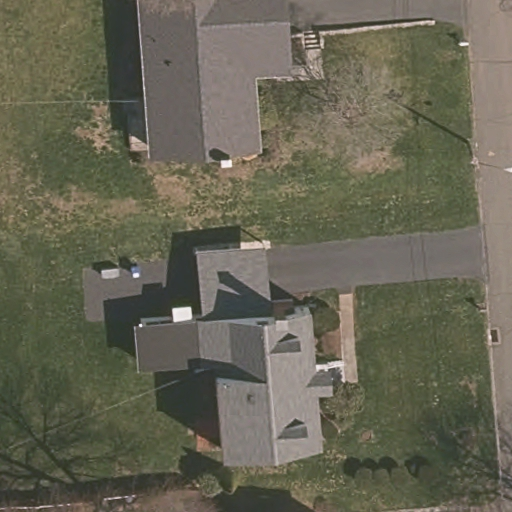DT: (458, 134, 486, 171)
